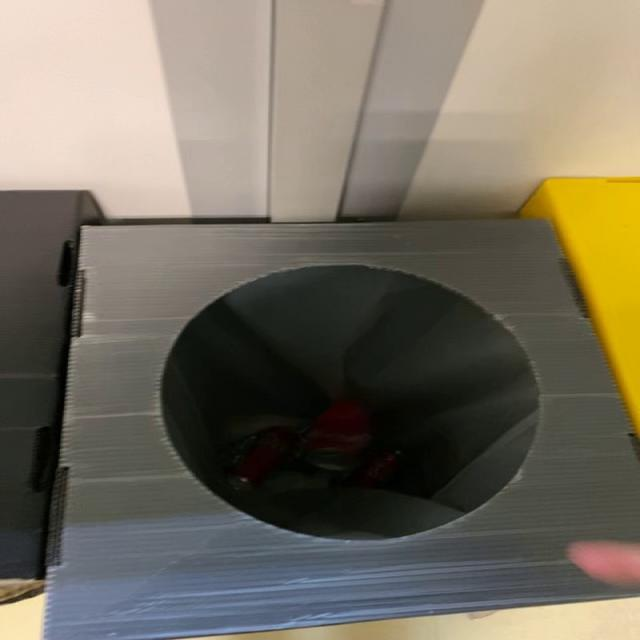bin: (44, 222, 639, 640)
metal: (300, 401, 397, 488), (301, 400, 371, 472), (233, 429, 296, 486)
